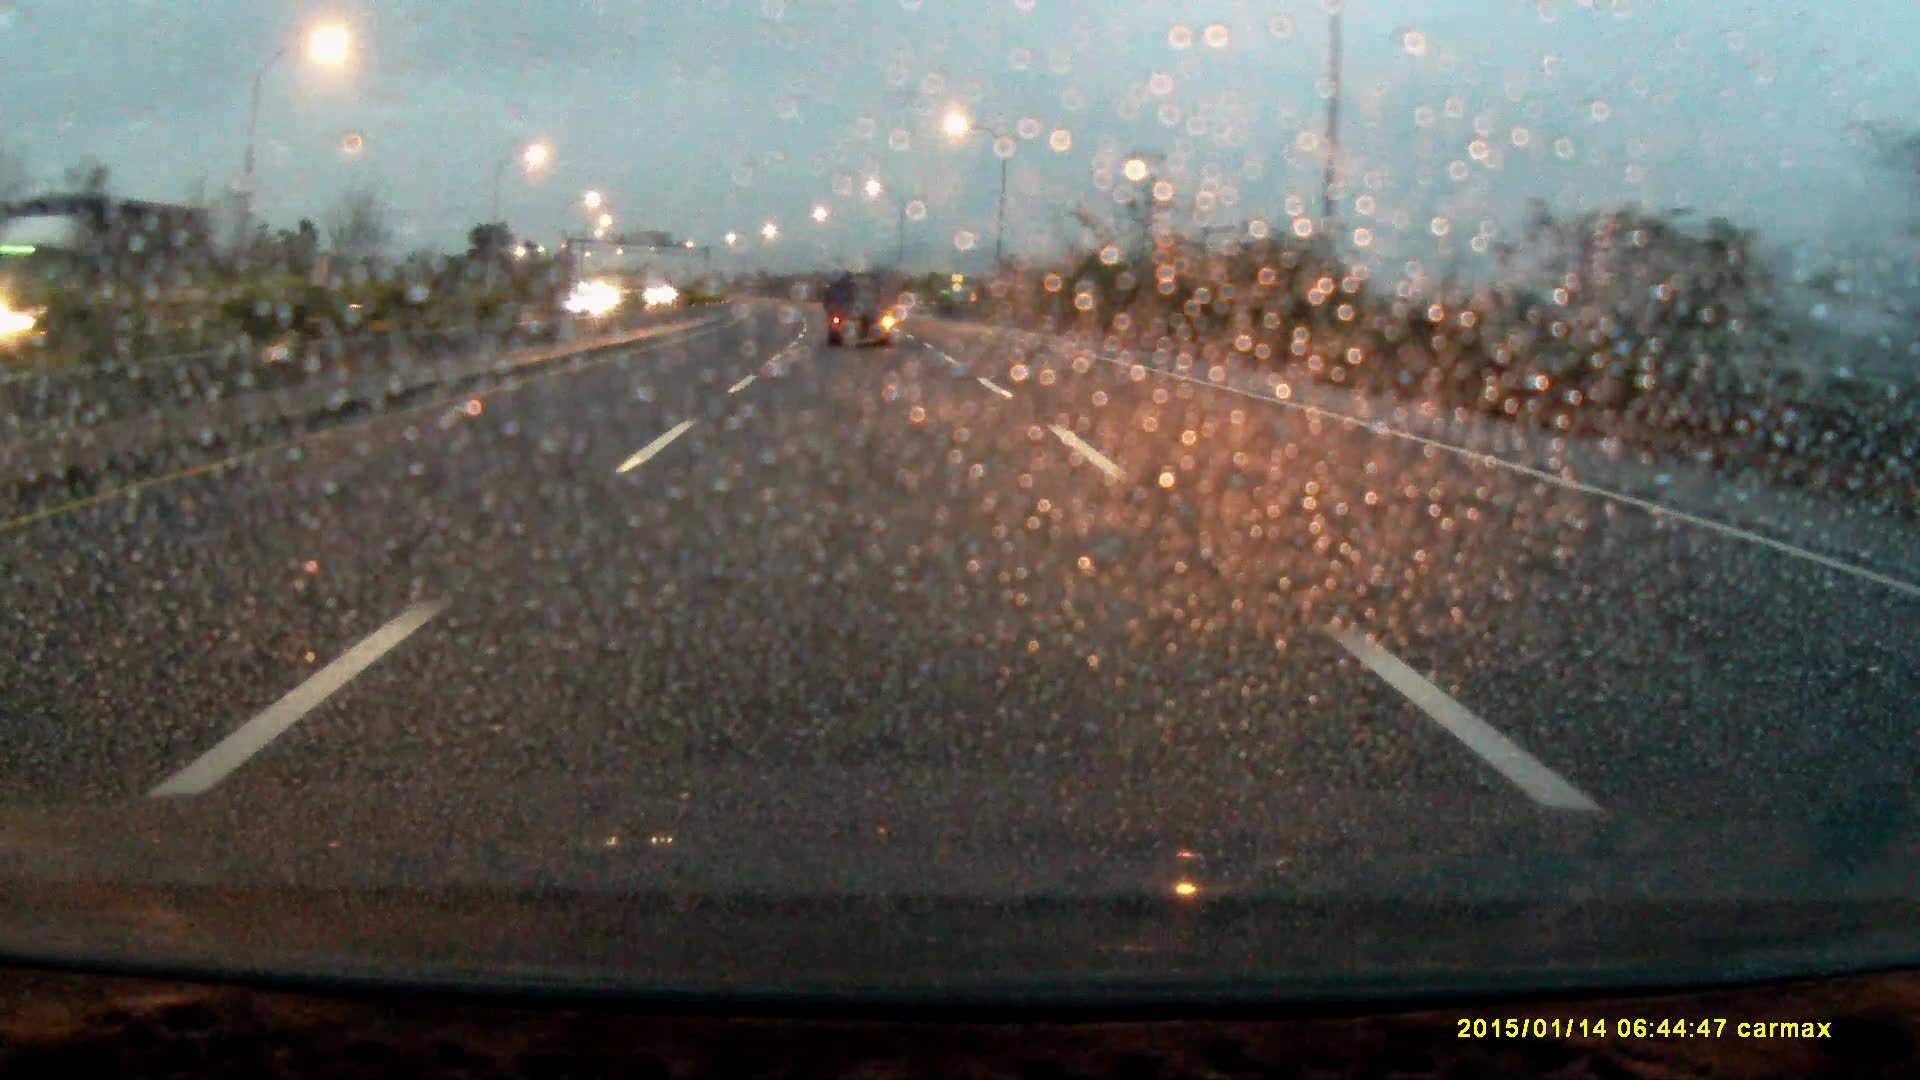vehicle: (13, 196, 222, 386), (825, 277, 898, 349), (579, 290, 626, 314)
